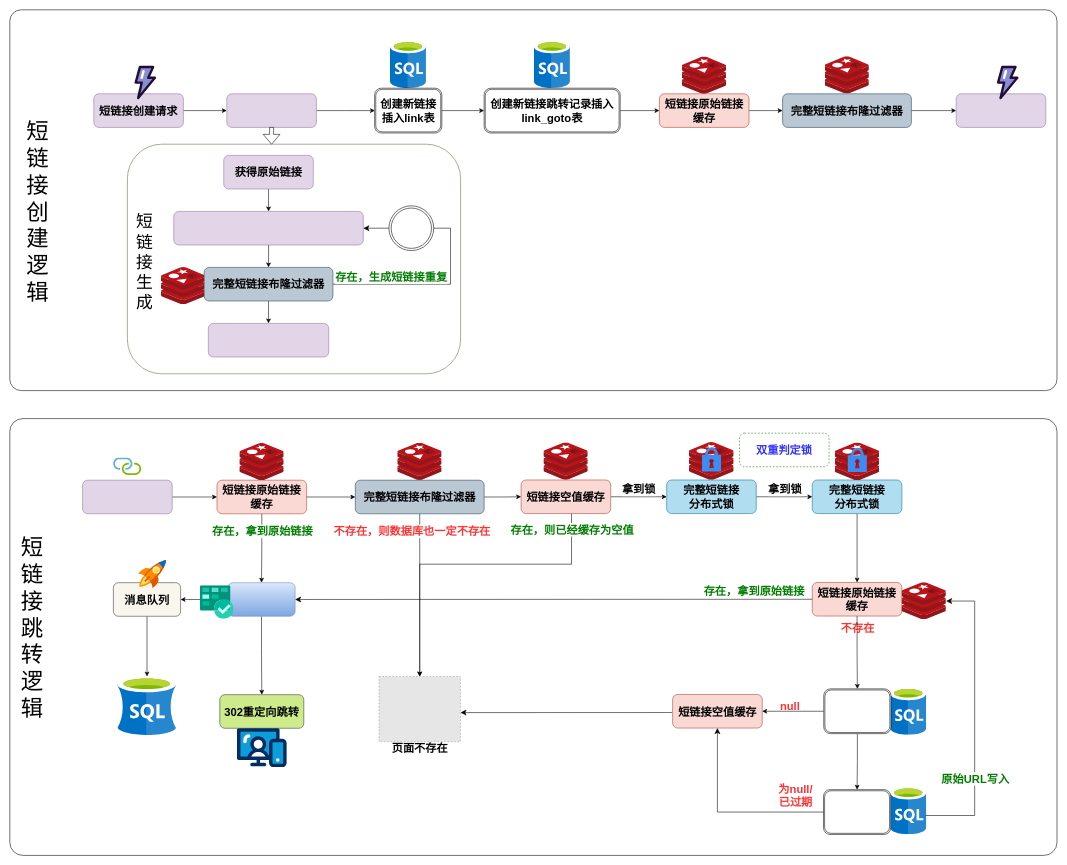
Image size: 1067x865. Some labels were removed from this diagram. Grey dashed boxes stand in for pictures. Here are the shapes that lost their labels. From the top down, the centre of each, then its label:
At (271,110): "获取六位数 短链接".
At (1001,110): "短链接创建响应".
At (268,228): "MurnurHash（原始链接 + 时间戳）".
At (411,228): "循环生成10次".
At (268,340): "返回六位数短链接".
At (127,497): "短链接请求".
At (261,599): "访问统计".
At (857,711): "goto 表获取gid".
At (857,811): "link表查询原始URL".
